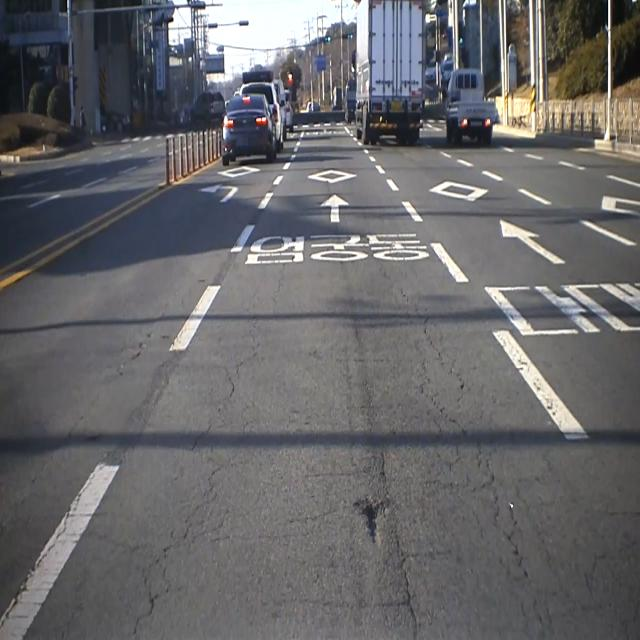Pothole: (347, 489, 402, 555)
